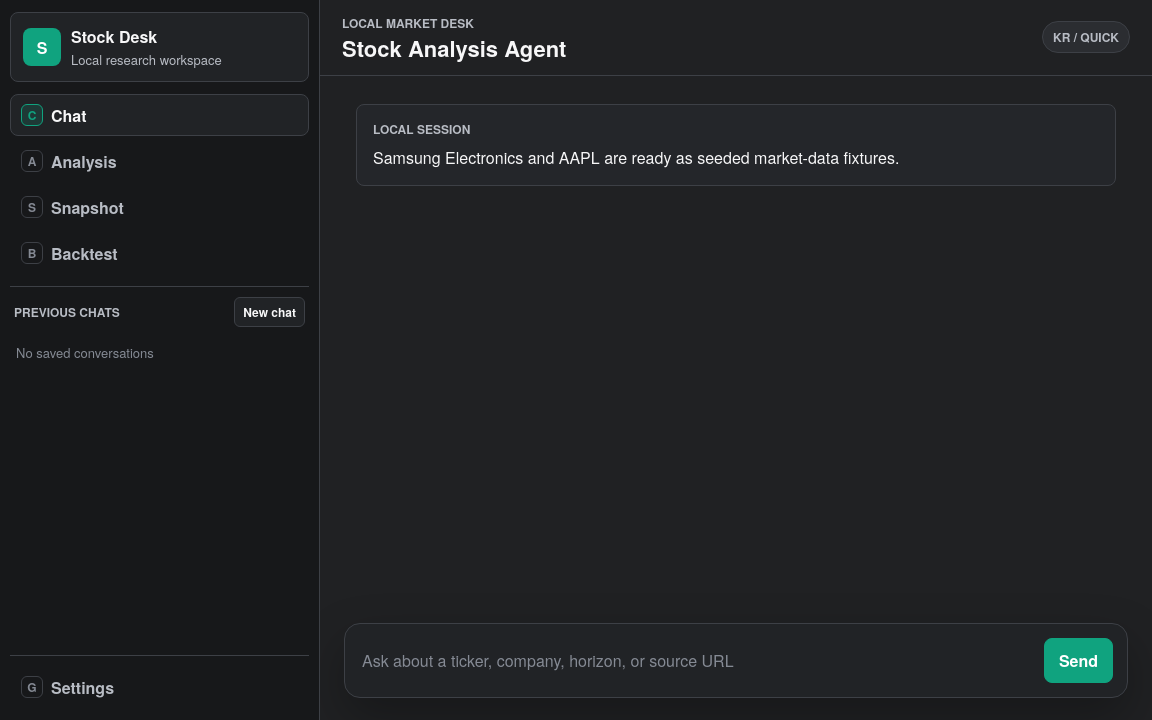
App › opens a settings modal for general model and security settings
The width and height of the screenshot is (1152, 720).
Expected: the heading "Stock Analysis Agent" is shown, 342,36 -> 566,61
Step 1. Click the button "G Settings" → x=83, y=687, box 10,666 -> 309,708
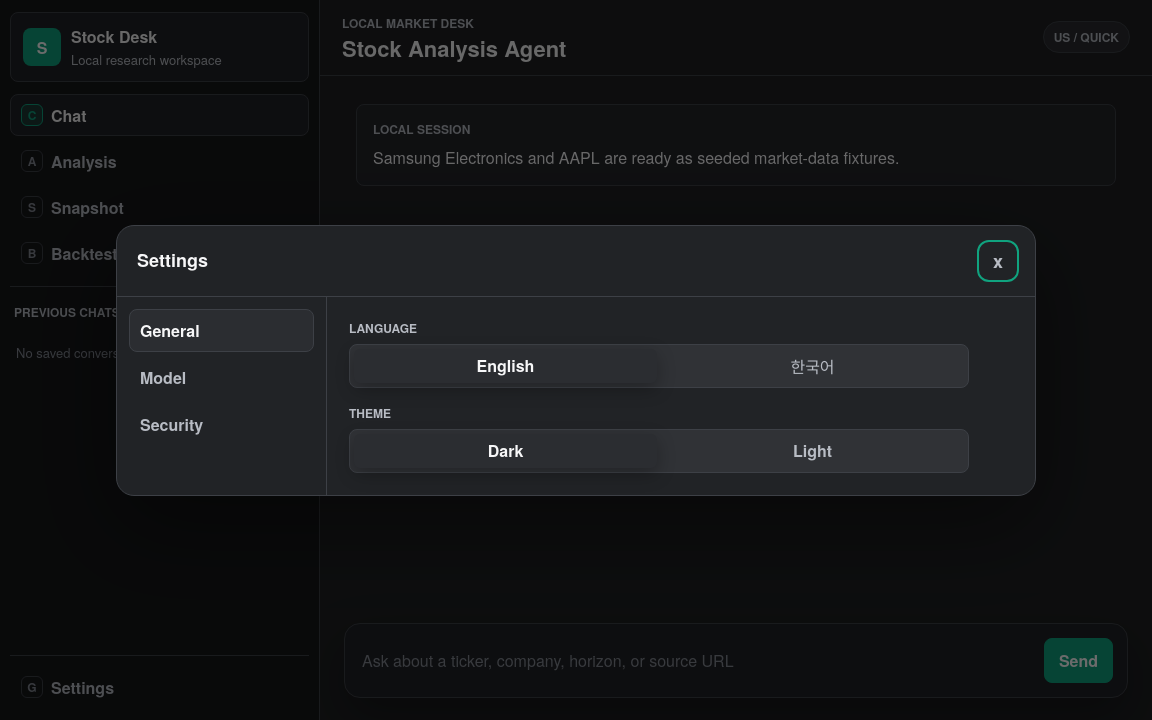
Expected: the dialog "Settings" is shown, 116,224 -> 1036,496
Expected: the button "General" is shown, 129,308 -> 314,352
Expected: the button "Model" is shown
Step 2. Click the button "Model" → x=222, y=377, box 129,356 -> 314,398
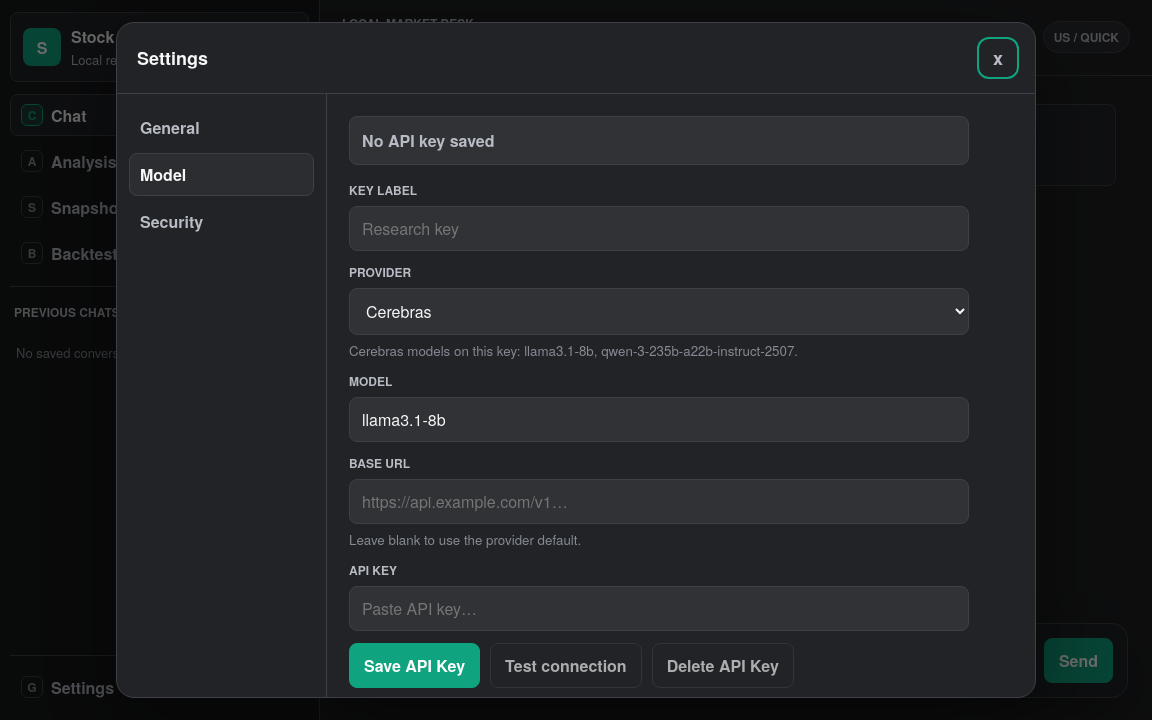
Expected: the dropdown labelled "Provider" is shown, 349,288 -> 969,335
Expected: the password field labelled "API key" is shown, 349,586 -> 969,631
Step 3. Click the button "Security" → x=222, y=222, box 129,200 -> 314,243
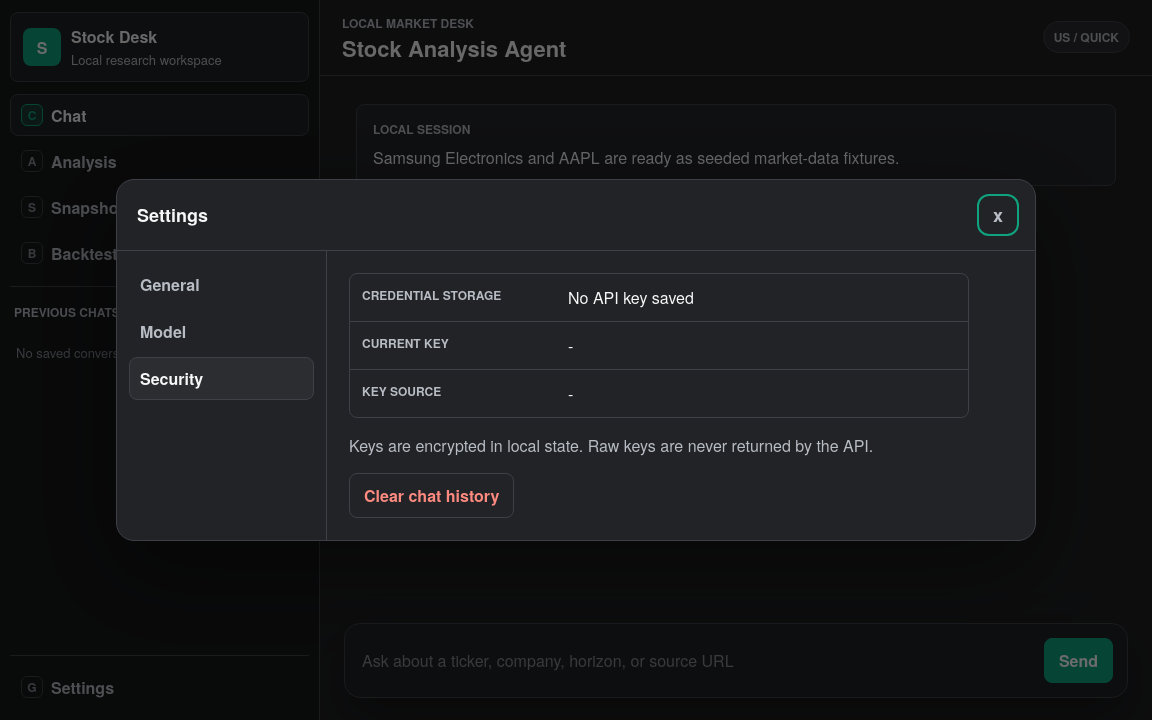
Expected: the text "Credential storage" is shown, 362,286 -> 501,304
